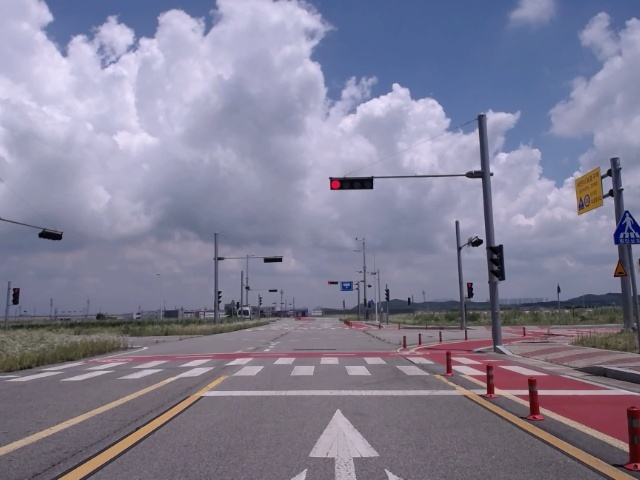red_4: (330, 178, 374, 191)
